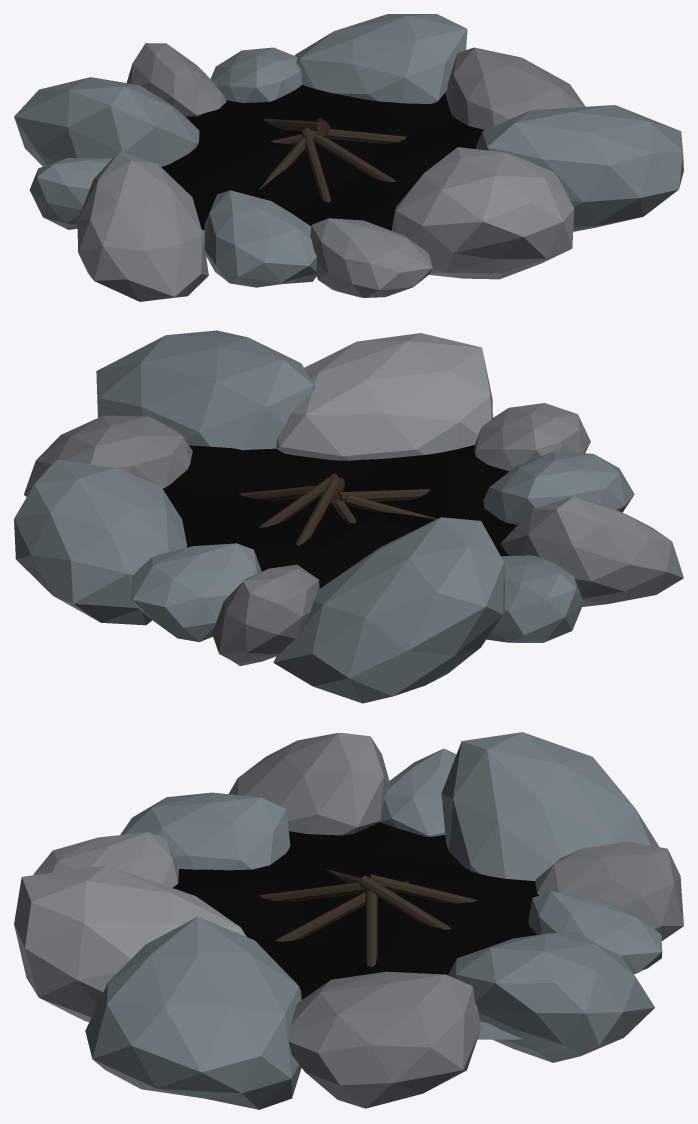
The model's file is Fire_01.gltf.
3 renders of one model, top to bottom at view 1: azimuth 30°, elevation 25°; view 2: azimuth 150°, elevation 25°; view 3: azimuth 270°, elevation 25°, orthographic. The views are drawn at different scales.
Visible parts, largest first — view 1: horizontal bonfire.001; view 2: horizontal bonfire.001; view 3: horizontal bonfire.001.
Part boxes in pixels (x1=…): horizontal bonfire.001: x1=14, y1=14, x2=683, y2=301; horizontal bonfire.001: x1=14, y1=330, x2=683, y2=703; horizontal bonfire.001: x1=14, y1=732, x2=683, y2=1109.
Bounding box in the file's own units: 0.3705 × 0.0882 × 0.3256.
1 material, 1 textured.
